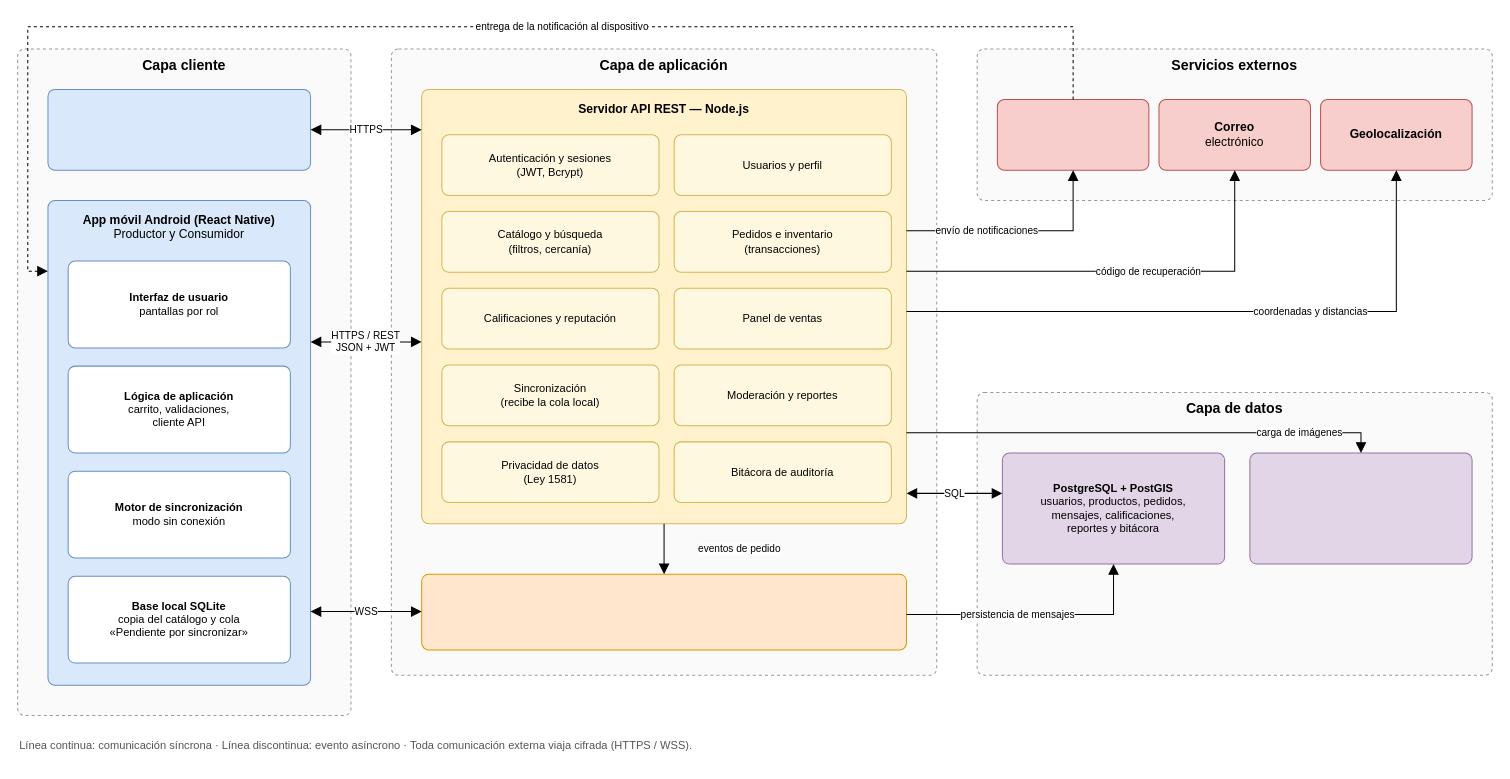
The diagram is 1510 pixels wide and 779 high, and some of its shapes have lost their labels. The shapes that lost their labels are listed below. From the top down, each one's centre as x and y in pixels, then its label:
At point 179,129: "Panel web de administración Administrador · Fase 2".
At point 1072,134: "Notificaciones push".
At point 1360,508: "Almacenamiento de imágenes archivos de fotos; la BD guarda solo la URL".
At point 663,611: "Servidor de tiempo real (WebSocket) chat interno y eventos de pedido".
